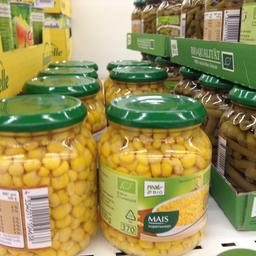corn: (100, 92, 212, 254), (0, 94, 97, 255)
